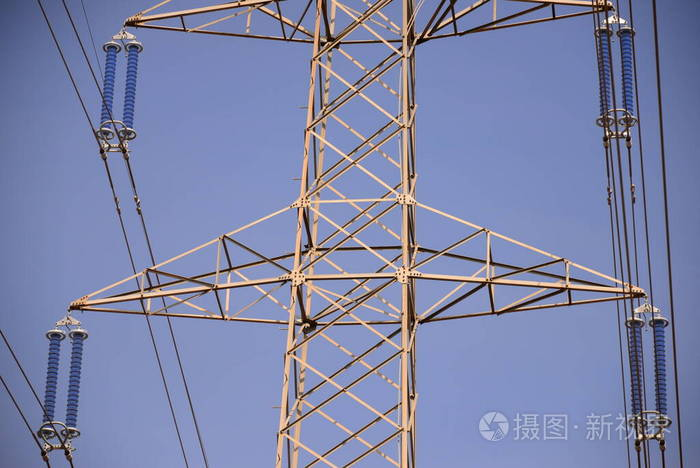insulator: (39, 335, 62, 425), (64, 335, 85, 427), (652, 324, 671, 417), (629, 323, 647, 417), (597, 31, 615, 117), (619, 33, 637, 116), (99, 46, 117, 128), (123, 45, 140, 128)
